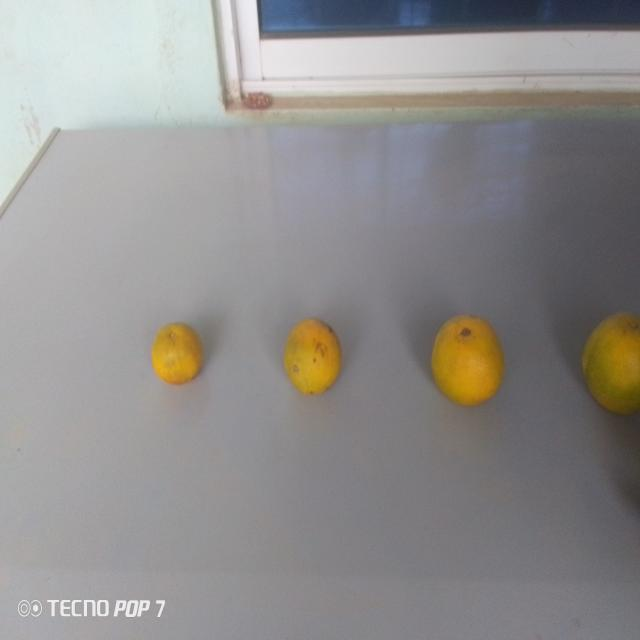Ripe orange: (414, 302, 514, 421), (275, 308, 355, 412), (572, 315, 640, 428), (144, 311, 211, 397)
